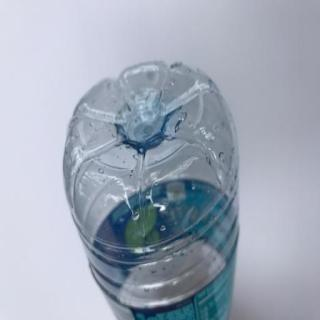Plastic-bottle: (62, 58, 243, 320)
